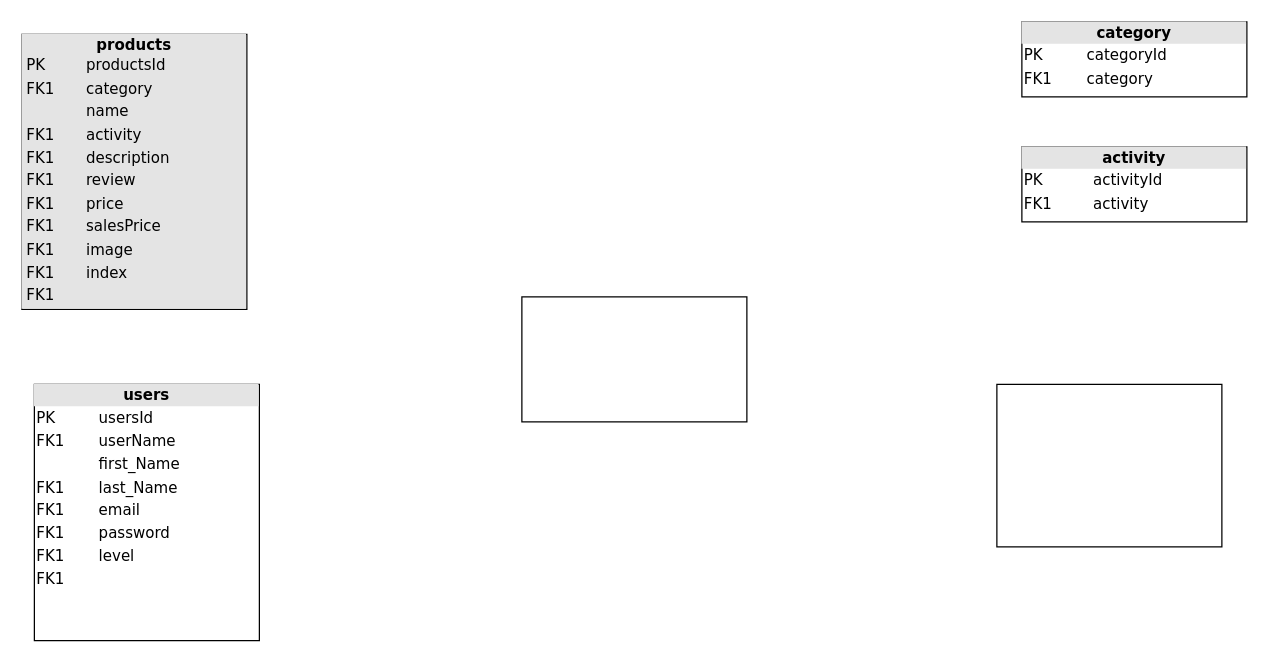
The diagram is 1269 pixels wide and 663 high, and some of its shapes have lost their labels. The centre of each missing label's shape, as x and y in pixels:
interfaceProduct PK productsId FK1 nameId FK1 price FK1 salesPrice: point (634, 359)
productCar PK productCarId FK1 productId FK1 name FK1 price FK1 salesPrice qty: point (1109, 465)
